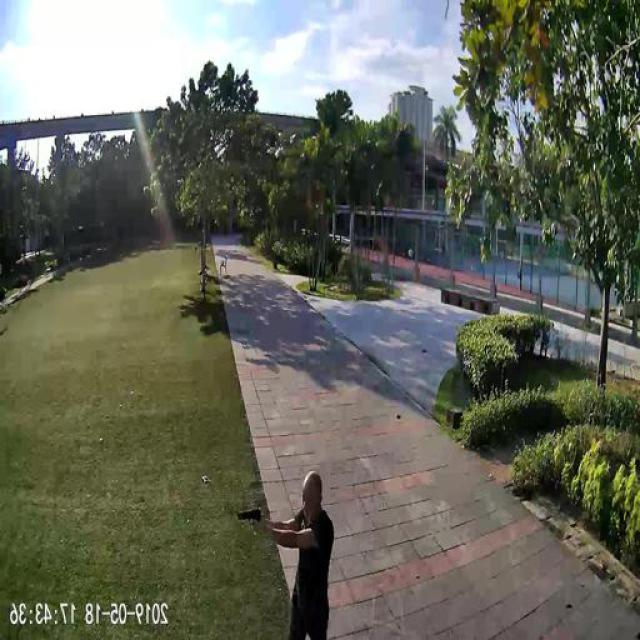weapon: (235, 505, 265, 534)
